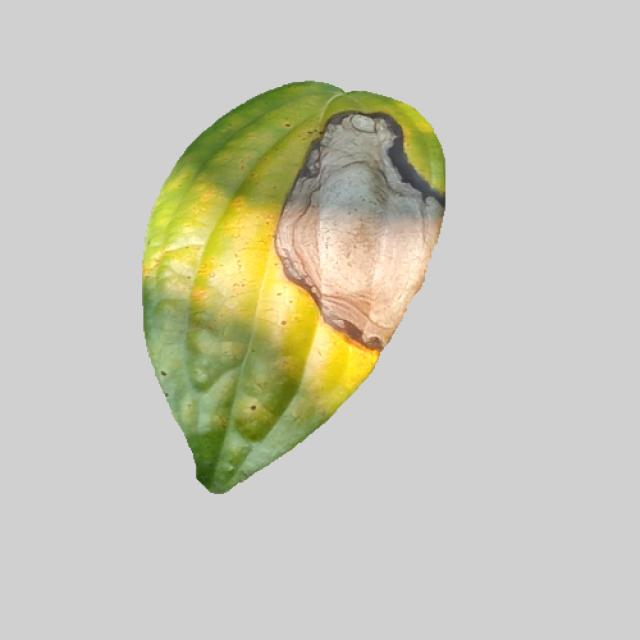leaf-blight: (122, 86, 462, 492)
